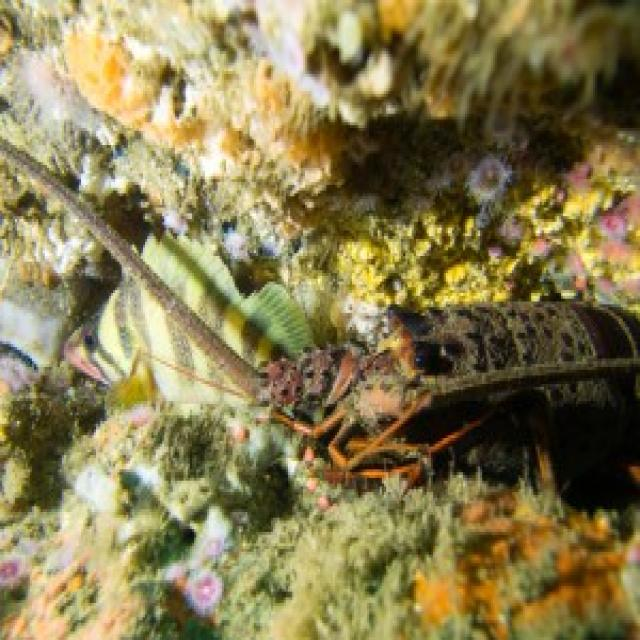lobsters: (100, 196, 640, 552)
